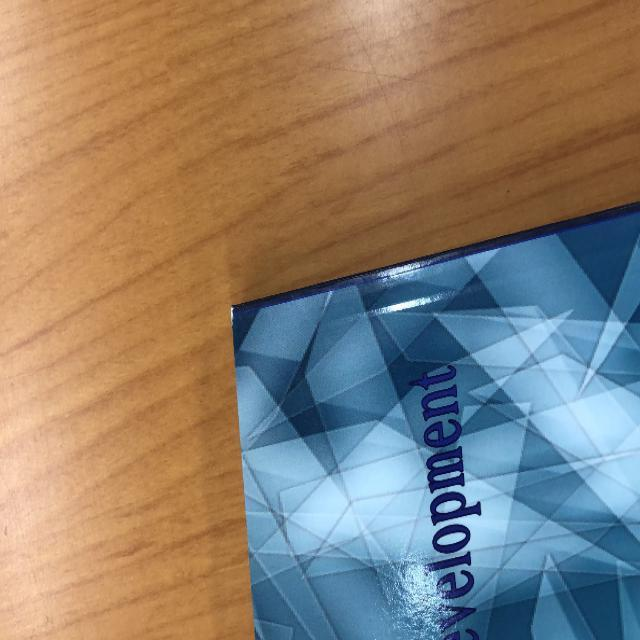Wornout: (224, 299, 241, 357)
